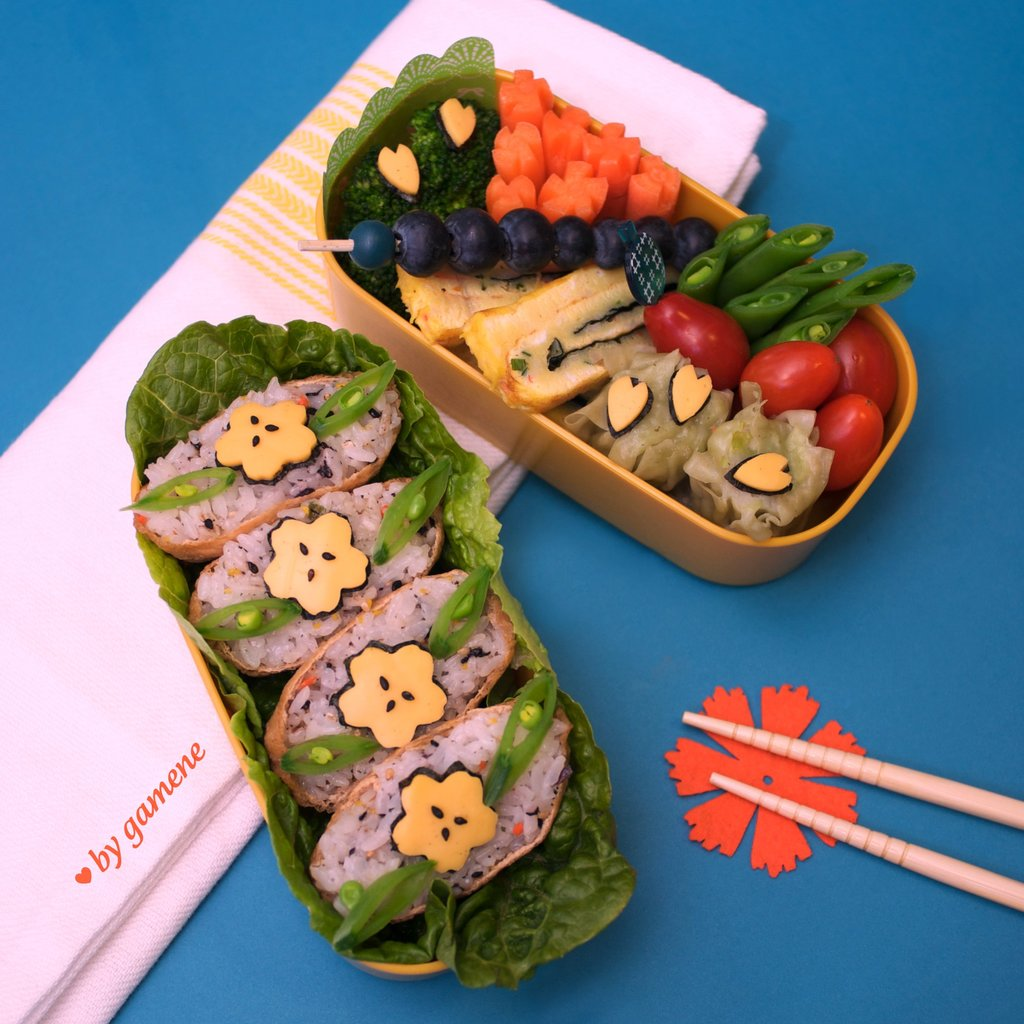sushi: (317, 104, 909, 574), (263, 573, 515, 811), (312, 704, 576, 925), (130, 365, 401, 565), (189, 473, 448, 668)
